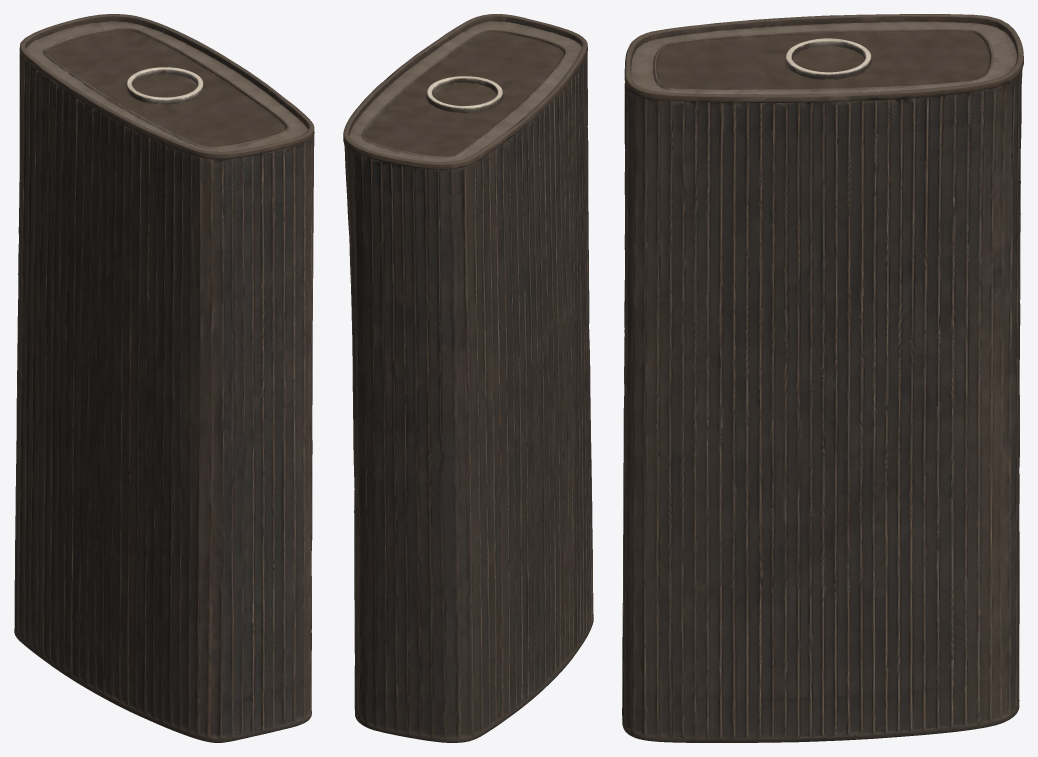
The model's file is attempt02-raw.glb.
3 views of the same model, side by side, from view 1: azimuth 30°, elevation 25°; view 2: azimuth 150°, elevation 25°; view 3: azimuth 270°, elevation 25° (orthographic). The views are drawn at different scales.
Parts seen in each view (by area): view 1: tripo_node_88d706dc-b3ae-4dda-92b1-19f3a3809a3a; view 2: tripo_node_88d706dc-b3ae-4dda-92b1-19f3a3809a3a; view 3: tripo_node_88d706dc-b3ae-4dda-92b1-19f3a3809a3a.
Boxes of the visible parts, x1,y1,x2,y2 form: tripo_node_88d706dc-b3ae-4dda-92b1-19f3a3809a3a: (14, 14, 314, 742); tripo_node_88d706dc-b3ae-4dda-92b1-19f3a3809a3a: (343, 14, 593, 742); tripo_node_88d706dc-b3ae-4dda-92b1-19f3a3809a3a: (622, 14, 1023, 742).
Bounding box in the file's own units: 0.2791 × 0.9807 × 0.5481.
1 material, 1 textured.
